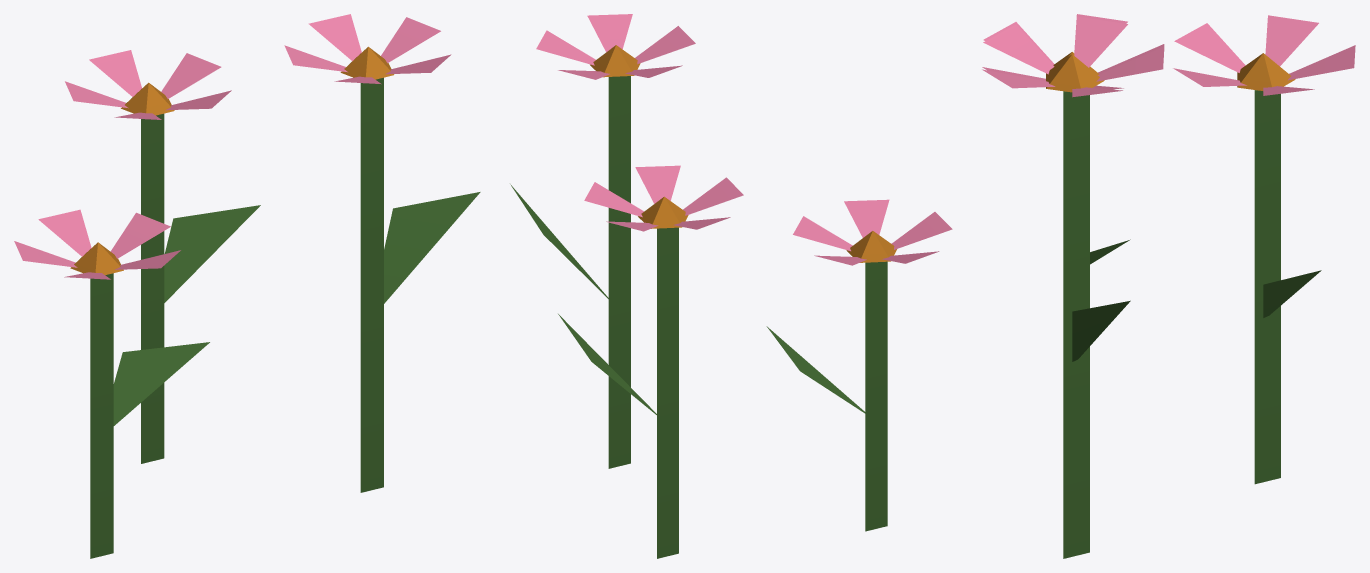
The model's file is flowers_p.glb.
3 views of the same model, side by side, from view 1: azimuth 30°, elevation 25°; view 2: azimuth 150°, elevation 25°; view 3: azimuth 270°, elevation 25° (orthographic). The views are drawn at different scales.
Parts seen in each view (by area): view 1: flowers_p; view 2: flowers_p; view 3: flowers_p.
Boxes of the visible parts, box(x1,y1,x2,y2) form: flowers_p: box(14, 14, 480, 558); flowers_p: box(510, 14, 952, 558); flowers_p: box(982, 14, 1355, 558).
Size of the model in its own units: 0.4049 by 0.374 by 0.2545.
